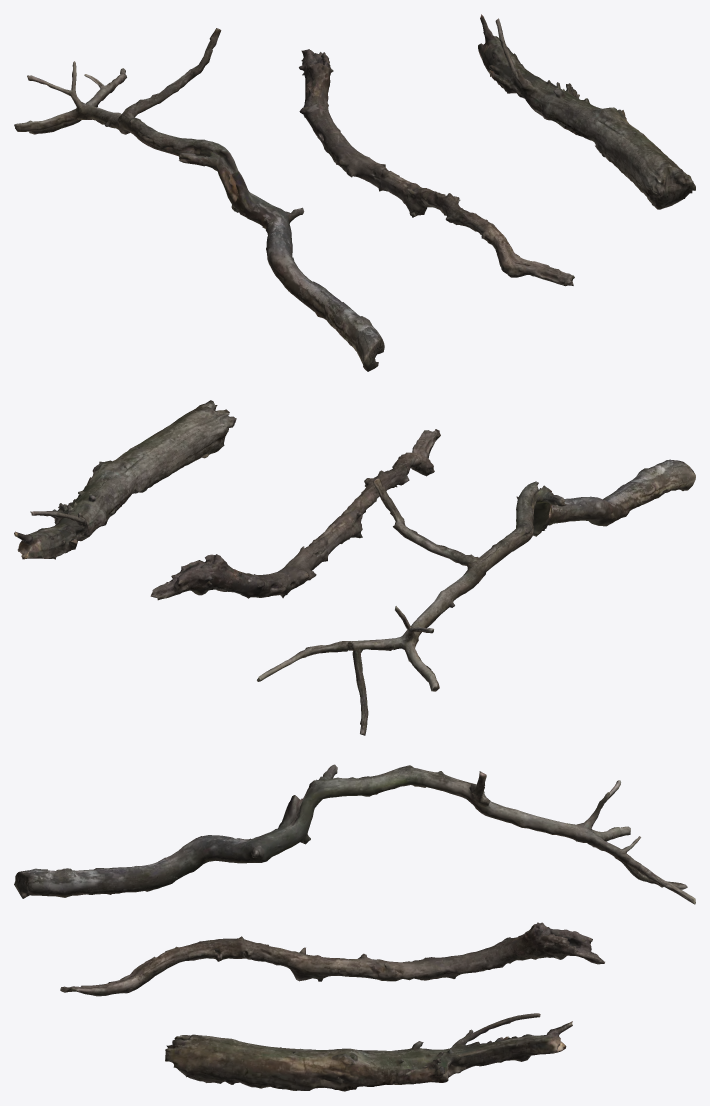
The model's file is dry_branches_medium_01.glb.
3 views of the same model, one above another, from view 1: azimuth 30°, elevation 25°; view 2: azimuth 150°, elevation 25°; view 3: azimuth 270°, elevation 25° (orthographic). The views are drawn at different scales.
Parts seen in each view (by area): view 1: dry_branches_medium_01_c; view 2: dry_branches_medium_01_c; view 3: dry_branches_medium_01_c.
Part boxes in pixels (x1,y1,x2,y2): dry_branches_medium_01_c: [14, 14, 695, 371]; dry_branches_medium_01_c: [14, 400, 695, 735]; dry_branches_medium_01_c: [14, 764, 695, 1091].
Bounding box in the file's own units: 1.06 × 0.341 × 1.3.
1 material, 1 textured.
